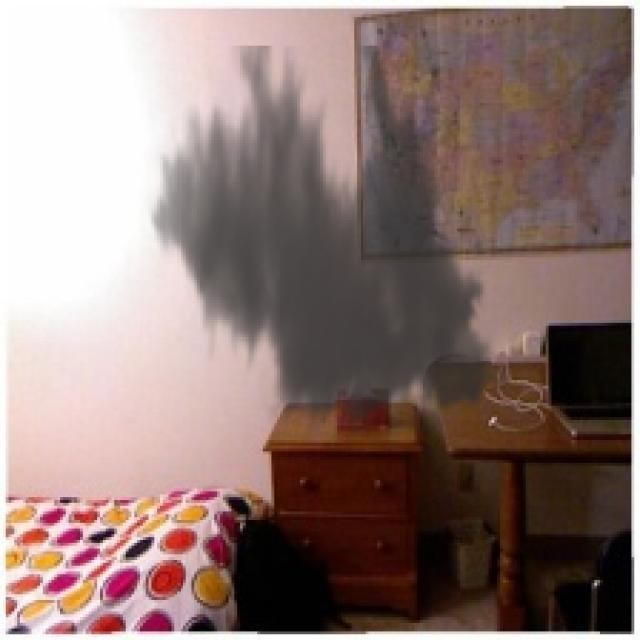Smoke: (139, 46, 512, 446)
